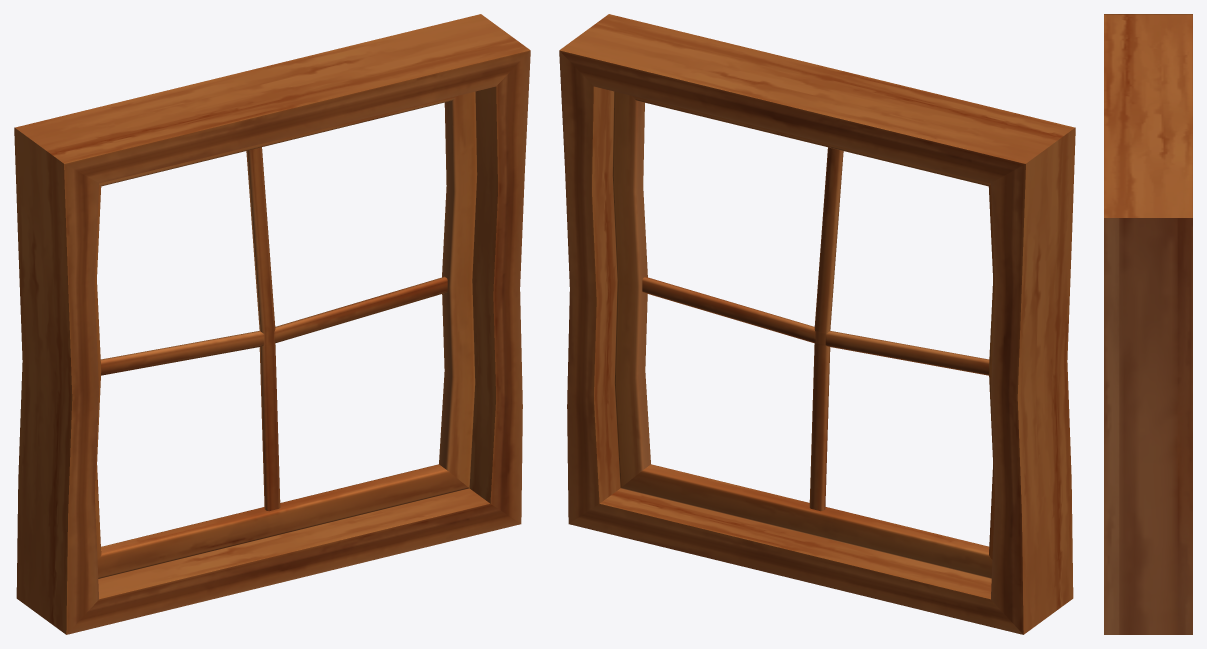
The model's file is PropWindow01TypeC_2_2.FBX.
3 views of the same model, side by side, from view 1: azimuth 30°, elevation 25°; view 2: azimuth 150°, elevation 25°; view 3: azimuth 270°, elevation 25° (orthographic). The views are drawn at different scales.
Parts seen in each view (by area): view 1: PropWindow01TypeC_2_2; view 2: PropWindow01TypeC_2_2; view 3: PropWindow01TypeC_2_2.
Part boxes in pixels (x1,y1,x2,y2): PropWindow01TypeC_2_2: (14,14,530,634); PropWindow01TypeC_2_2: (559,14,1075,634); PropWindow01TypeC_2_2: (1104,14,1192,634).
Size of what is drawn, in the model's own units: 1.65 by 1.6 by 0.3049.
